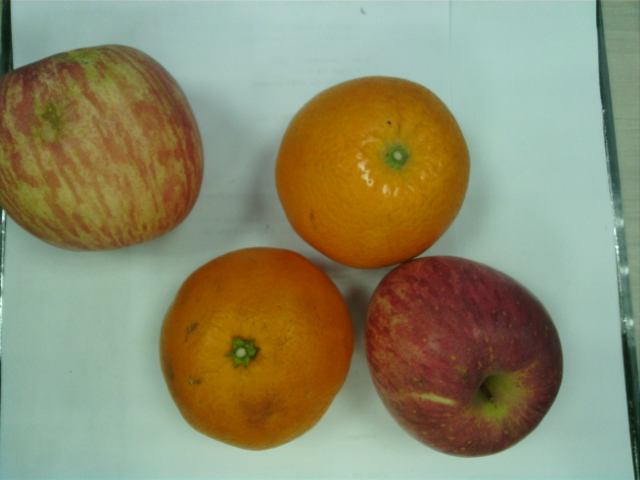normal_apple: (2, 45, 205, 251), (366, 255, 565, 460)
normal_orange: (160, 247, 353, 451), (275, 76, 472, 268)
